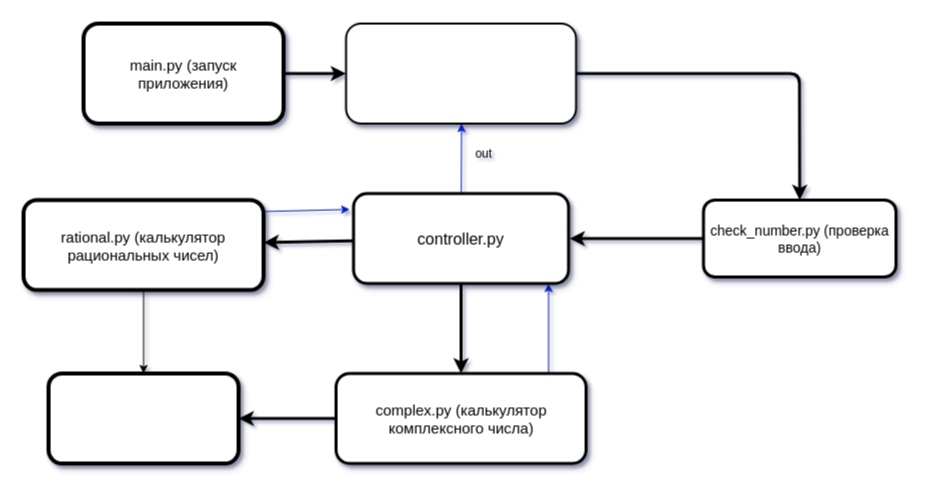
This 926x495 diagram has some shape labels left out. Each missing label, with the centre of its shape:
"logs.py (логирование данных)" goes at point (144, 419).
"ui.py (интерфейс пользователя)" goes at point (461, 74).
